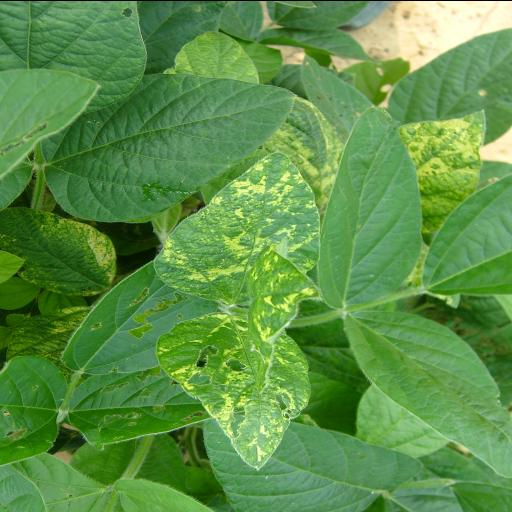disease_tomato: (154, 312, 320, 470), (159, 159, 313, 302), (0, 205, 116, 293)
